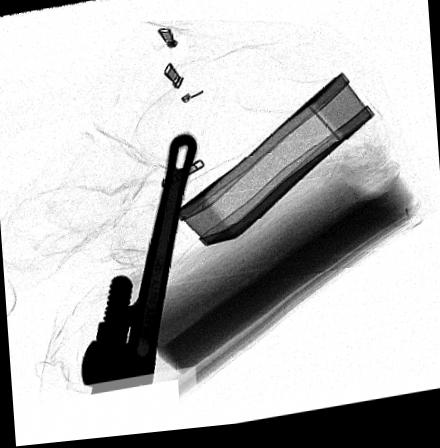Wrench: (77, 136, 198, 397)
